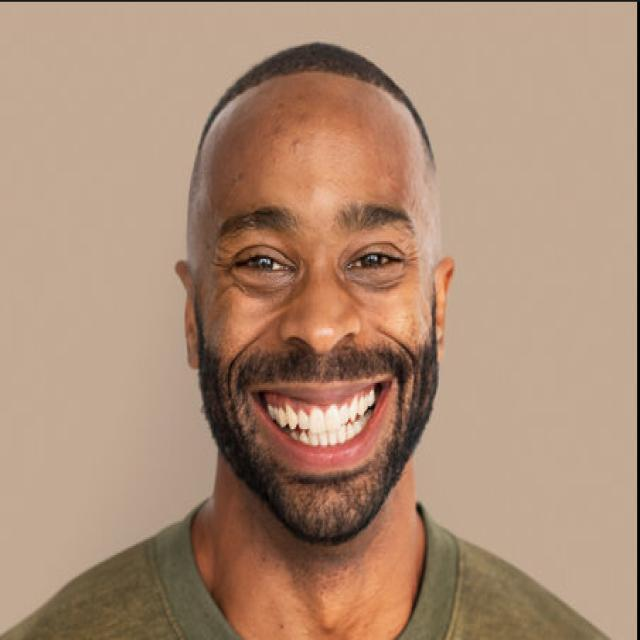Puffy Eyes - v3 Dark Circle: (232, 273, 292, 293), (355, 269, 409, 289)
